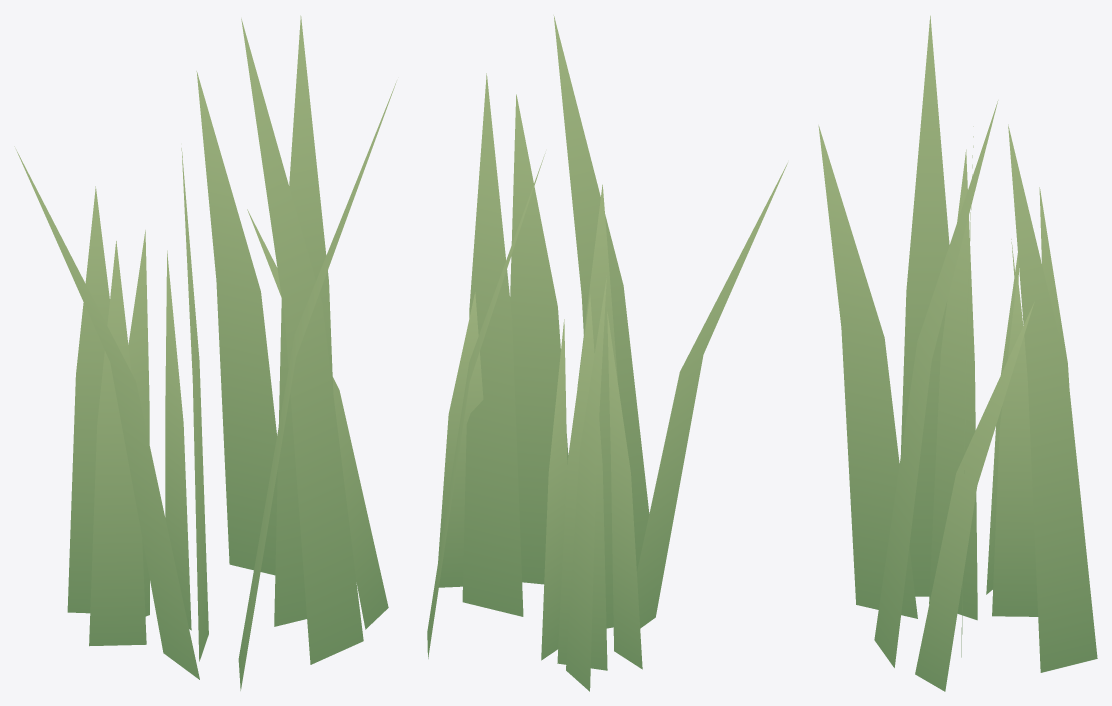
File: grass_tall.glb
3 renders of one model, left to right at view 1: azimuth 30°, elevation 25°; view 2: azimuth 150°, elevation 25°; view 3: azimuth 270°, elevation 25°, orthographic. The views are drawn at different scales.
Parts seen in each view (by area): view 1: grass_tall; view 2: grass_tall; view 3: grass_tall.
Boxes of the visible parts, <box> form: grass_tall: <box>14,15,396,690</box>; grass_tall: <box>427,15,787,691</box>; grass_tall: <box>818,15,1097,691</box>.
Bounding box in the file's own units: 0.5937 × 0.8887 × 0.4141.
